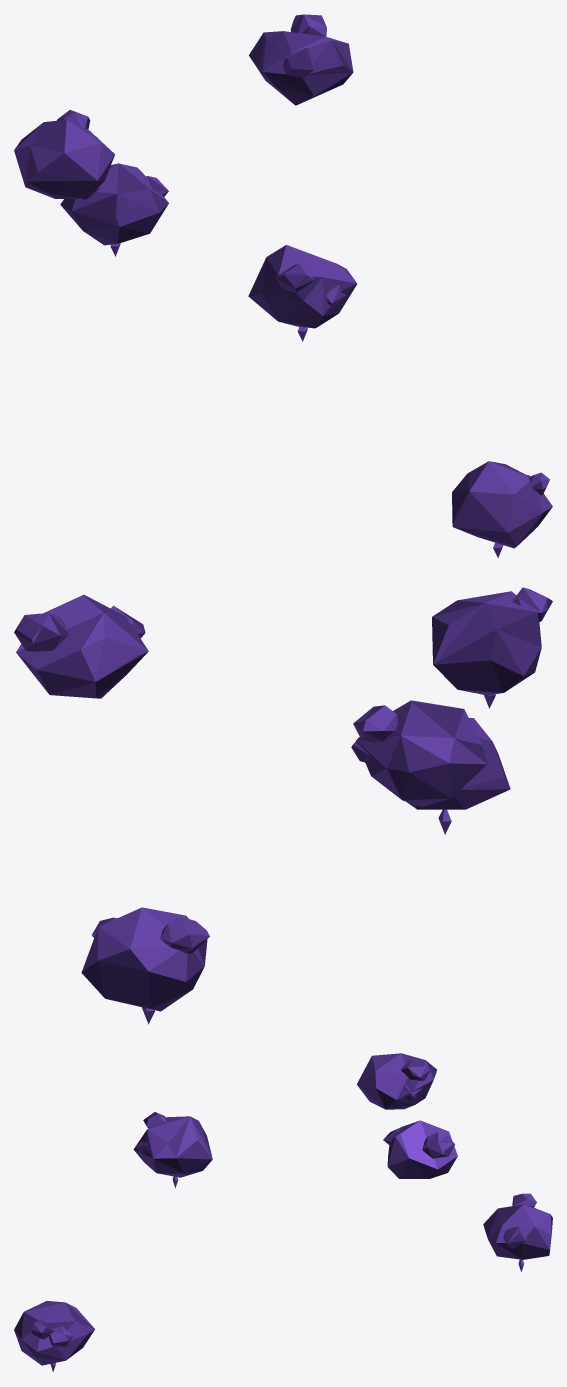
Rendered from Leaves_B.glb.
3 renders of one model, top to bottom at view 1: azimuth 30°, elevation 25°; view 2: azimuth 150°, elevation 25°; view 3: azimuth 270°, elevation 25°, orthographic. The views are drawn at different scales.
Visible parts, largest first — view 1: Leaves; view 2: Leaves; view 3: Leaves.
Boxes of the visible parts, x1=… form: Leaves: x1=14, y1=14, x2=552, y2=557; Leaves: x1=14, y1=587, x2=552, y2=1024; Leaves: x1=14, y1=1053, x2=552, y2=1372.
Bounding box in the file's own units: 15.14 × 14.78 × 27.52.
